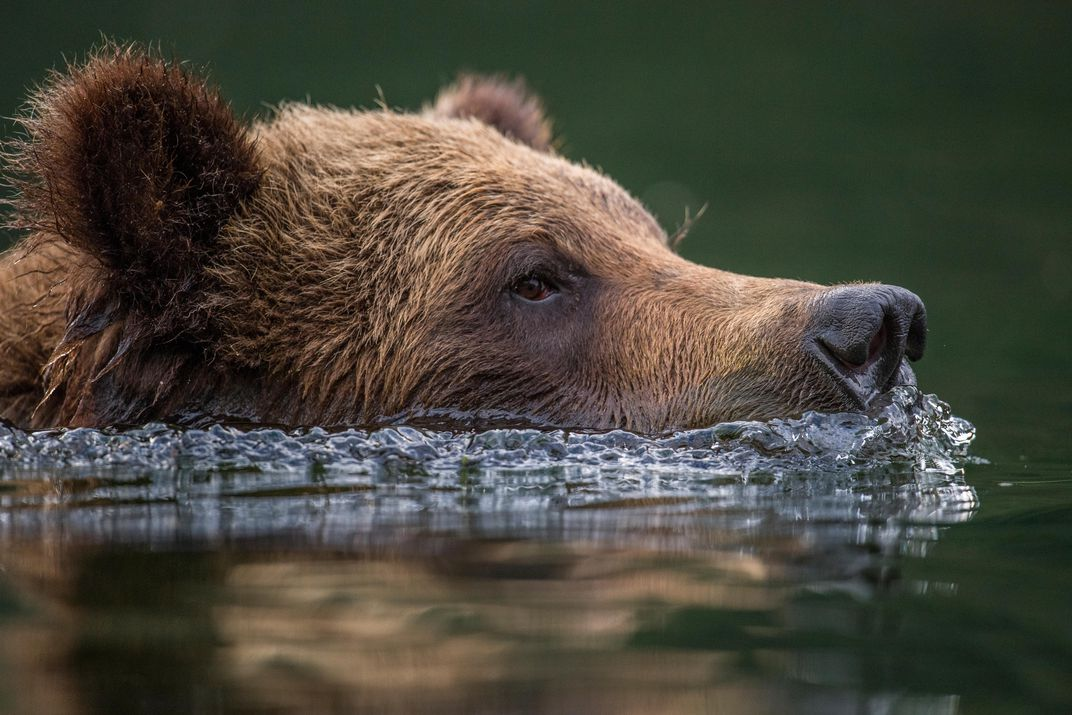bear: (4, 31, 961, 446)
